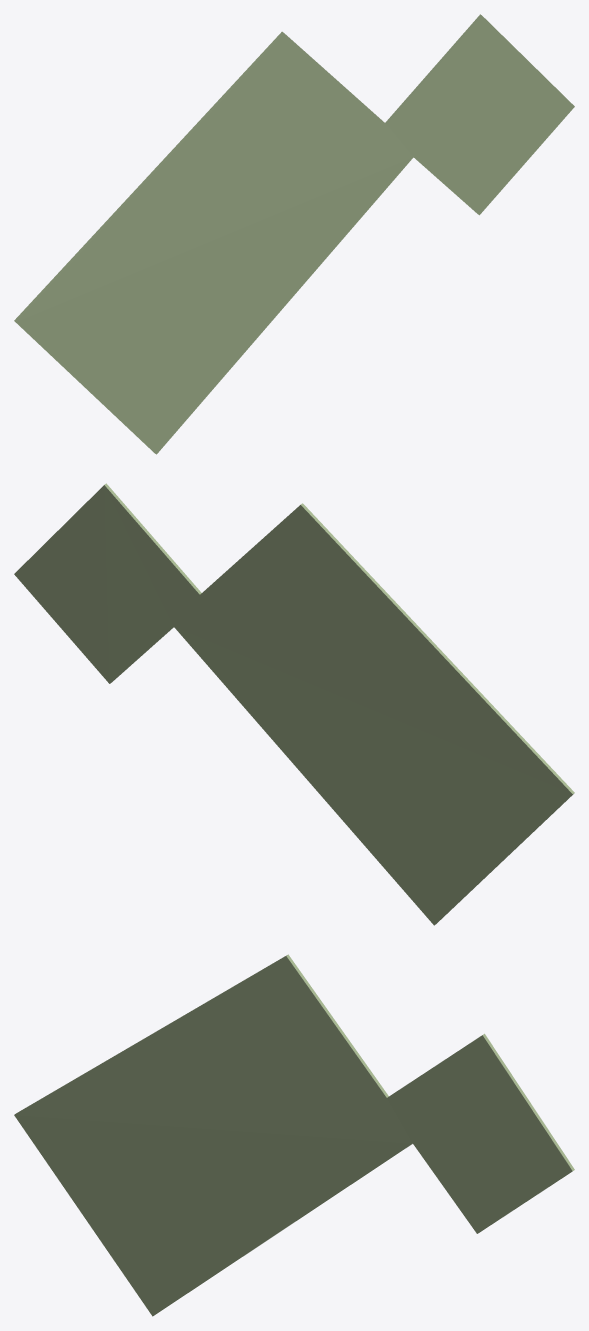
The picture shows the model from 3 angles, top to bottom: view 1: azimuth 30°, elevation 25°; view 2: azimuth 150°, elevation 25°; view 3: azimuth 330°, elevation 25°; orthographic projection.
Parts seen in each view (by area): view 1: urn:npust:smart-agriculture-management-platform:face:guestho; view 2: urn:npust:smart-agriculture-management-platform:face:guestho; view 3: urn:npust:smart-agriculture-management-platform:face:guestho.
Boxes of the visible parts, bbox=[...] form: urn:npust:smart-agriculture-management-platform:face:guestho: bbox=[14, 14, 574, 454]; urn:npust:smart-agriculture-management-platform:face:guestho: bbox=[14, 483, 574, 925]; urn:npust:smart-agriculture-management-platform:face:guestho: bbox=[14, 954, 574, 1316].
Bounding box in the file's own units: 37.65 × 25.07 × 0.614.
